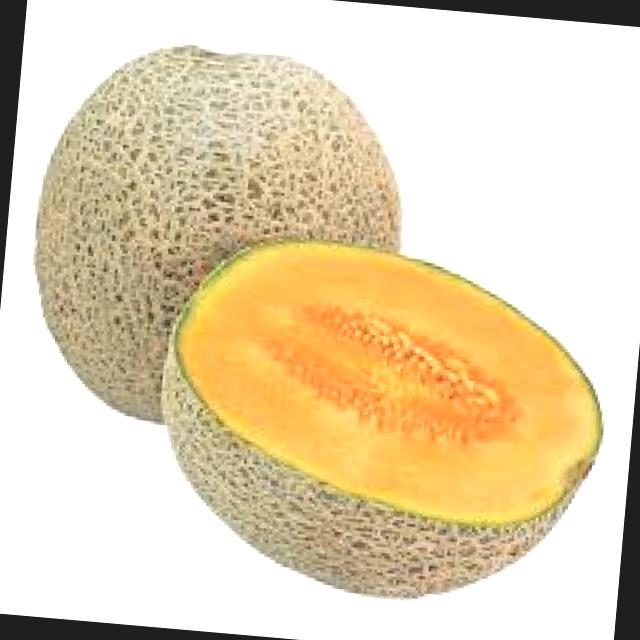cantaloupe: (144, 229, 619, 616), (18, 30, 416, 442)
